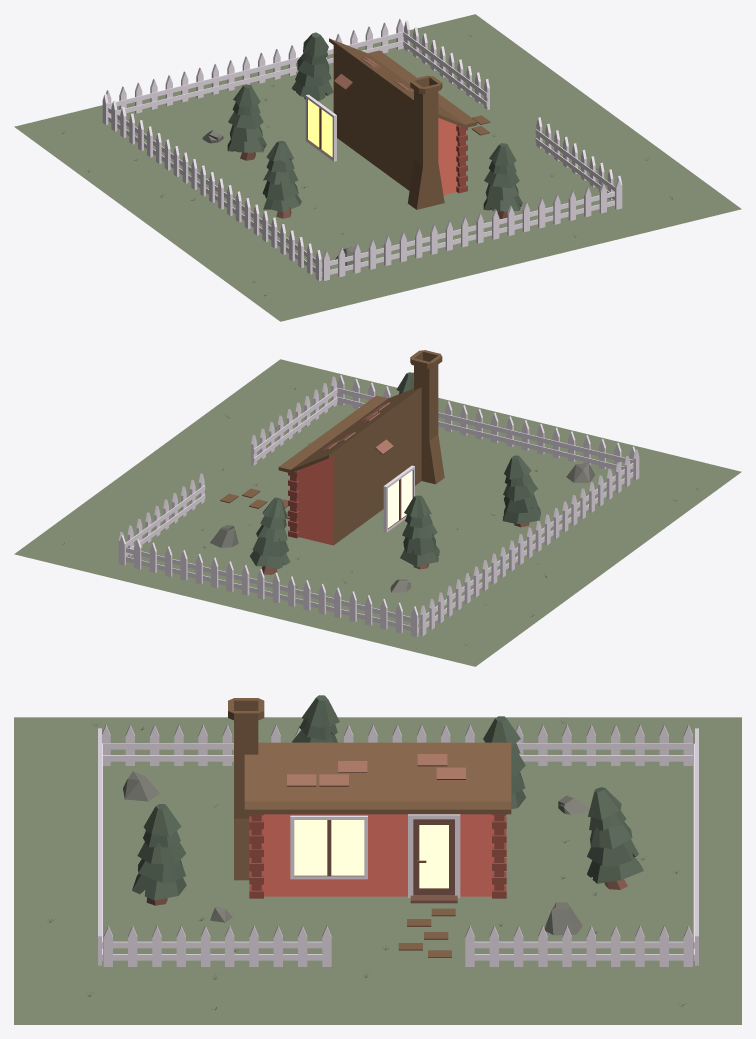
File: house_placeholder.glb
The picture shows the model from 3 angles, top to bottom: view 1: azimuth 30°, elevation 25°; view 2: azimuth 150°, elevation 25°; view 3: azimuth 270°, elevation 25°; orthographic projection. The views are drawn at different scales.
Parts seen in each view (by area): view 1: Plane, houseframe, fence.002, fence.003, fence.004, chimney, fence.001, spruce3, spruce4, spruce2, spruce, fence.009 (+2 smaller); view 2: Plane, houseframe, fence.004, fence.003, fence.002, chimney, fence.009, spruce, spruce4, spruce3, fence.001, window2 (+1 smaller); view 3: Plane, houseframe, fence.003, fence.009, fence.001, window, door, spruce, spruce2, chimney, spruce3, spruce4 (+6 smaller).
Boxes of the visible parts, box(x1,y1,x2,y2) form: Plane: box(14, 14, 741, 321); houseframe: box(329, 38, 477, 195); fence.002: box(322, 179, 622, 280); fence.003: box(102, 94, 322, 280); fence.004: box(106, 19, 403, 117); chimney: box(407, 75, 444, 209); fence.001: box(403, 20, 489, 109); spruce3: box(263, 141, 301, 218); spruce4: box(227, 84, 266, 160); spruce2: box(483, 143, 522, 218); spruce: box(291, 32, 333, 100); fence.009: box(535, 117, 622, 200); Plane: box(14, 359, 741, 666); houseframe: box(278, 387, 421, 545); fence.004: box(118, 535, 418, 636); fence.003: box(419, 449, 639, 636); fence.002: box(337, 375, 634, 473); chimney: box(410, 350, 444, 484); fence.009: box(251, 376, 337, 465); spruce: box(250, 497, 290, 574); spruce4: box(400, 495, 439, 569); spruce3: box(502, 455, 540, 527); fence.001: box(118, 473, 205, 556); window2: box(383, 465, 414, 532); Plane: box(14, 717, 741, 1024); houseframe: box(244, 742, 511, 896); fence.003: box(102, 724, 692, 765); fence.009: box(103, 925, 331, 966); fence.001: box(465, 925, 692, 966); window: box(290, 815, 367, 879); door: box(408, 814, 460, 903); spruce: box(587, 787, 643, 889); spruce2: box(132, 804, 186, 905); chimney: box(228, 698, 264, 880); spruce3: box(292, 695, 339, 742); spruce4: box(483, 716, 525, 816).
Bounding box in the file's own units: 60 × 17.45 × 60.
